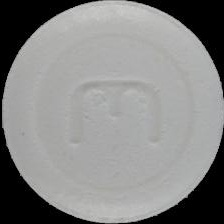68788-9559: (0, 0, 224, 224)
